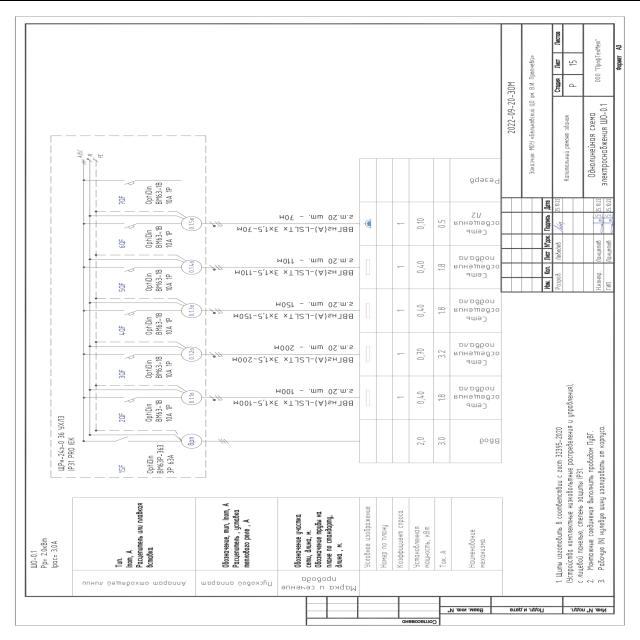-: (55, 413, 77, 471), (144, 443, 177, 473), (142, 355, 174, 379), (143, 268, 175, 292), (142, 398, 174, 422), (143, 224, 175, 248), (143, 312, 175, 336), (143, 181, 175, 205)
QF: (122, 308, 138, 315), (122, 221, 138, 228), (122, 178, 138, 185), (122, 352, 138, 359), (122, 396, 138, 402), (122, 266, 138, 272)
QS: (114, 436, 130, 442)
